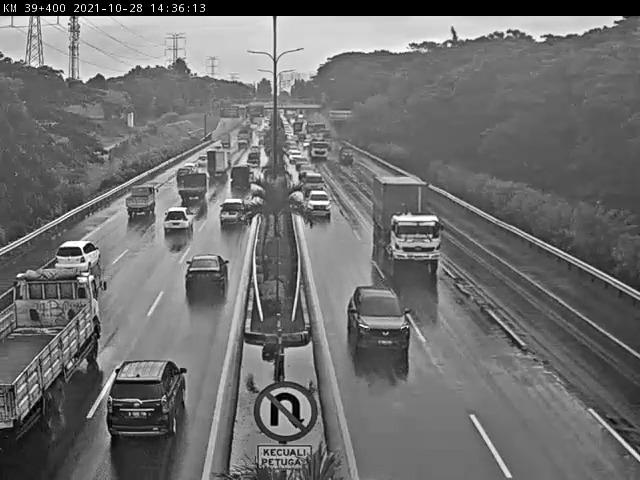big truck: (0, 266, 103, 440), (371, 177, 442, 275)
car: (105, 359, 186, 438), (346, 286, 412, 352), (181, 254, 232, 295), (52, 240, 102, 278), (218, 197, 249, 228), (306, 190, 335, 219), (164, 206, 194, 234), (225, 164, 253, 192), (303, 172, 326, 195), (181, 161, 199, 177), (173, 168, 192, 181)
small truck: (125, 185, 158, 220), (175, 170, 208, 201), (205, 149, 230, 180)
